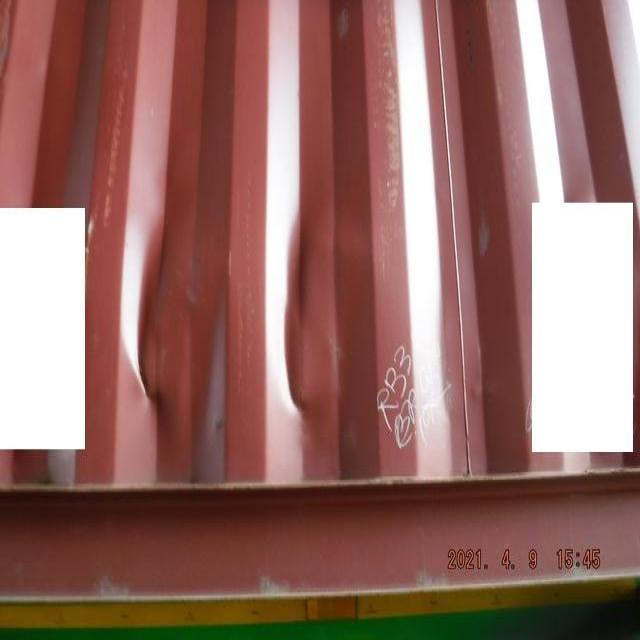Minor-Dent: (101, 205, 393, 432)
